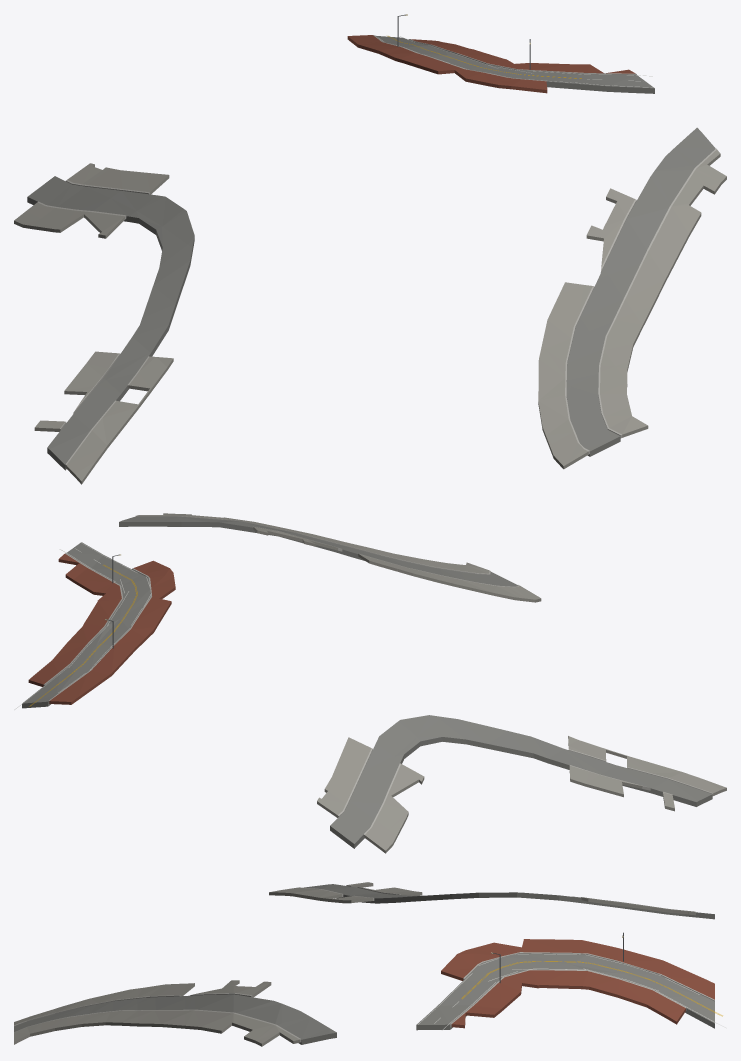
File: 18-218875-118979.996c1cef.glb
The picture shows the model from 3 angles, top to bottom: view 1: azimuth 30°, elevation 25°; view 2: azimuth 150°, elevation 25°; view 3: azimuth 270°, elevation 25°; orthographic projection. The views are drawn at different scales.
Size of the model in its own units: 149 by 46.45 by 148.
